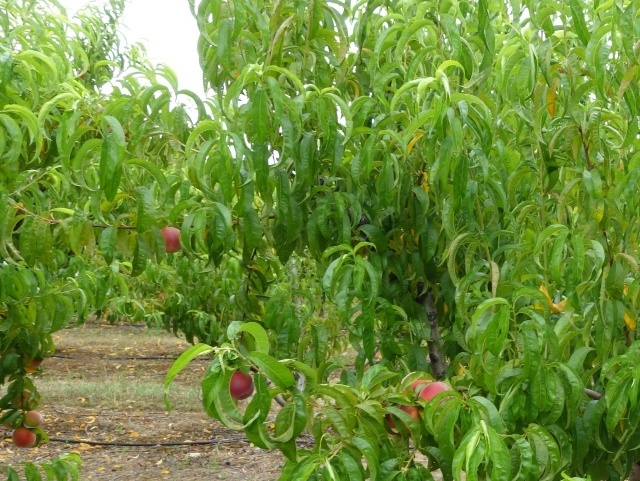peach: (381, 400, 425, 435), (223, 362, 257, 404), (395, 364, 437, 398), (415, 379, 457, 410), (157, 224, 188, 257), (9, 424, 40, 454), (18, 348, 47, 376), (8, 386, 37, 411), (18, 409, 46, 432)
